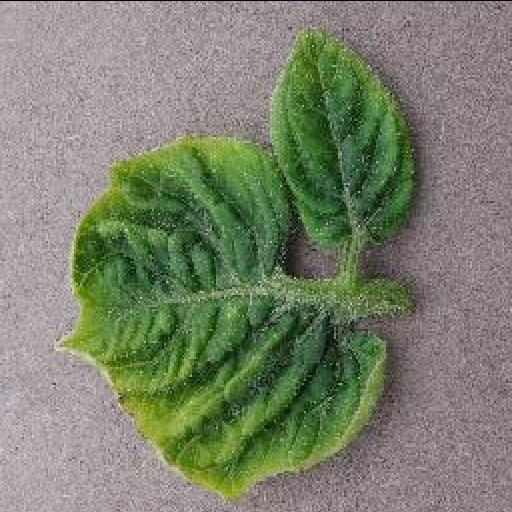disease_tomato: (54, 134, 394, 496), (268, 33, 418, 253)
